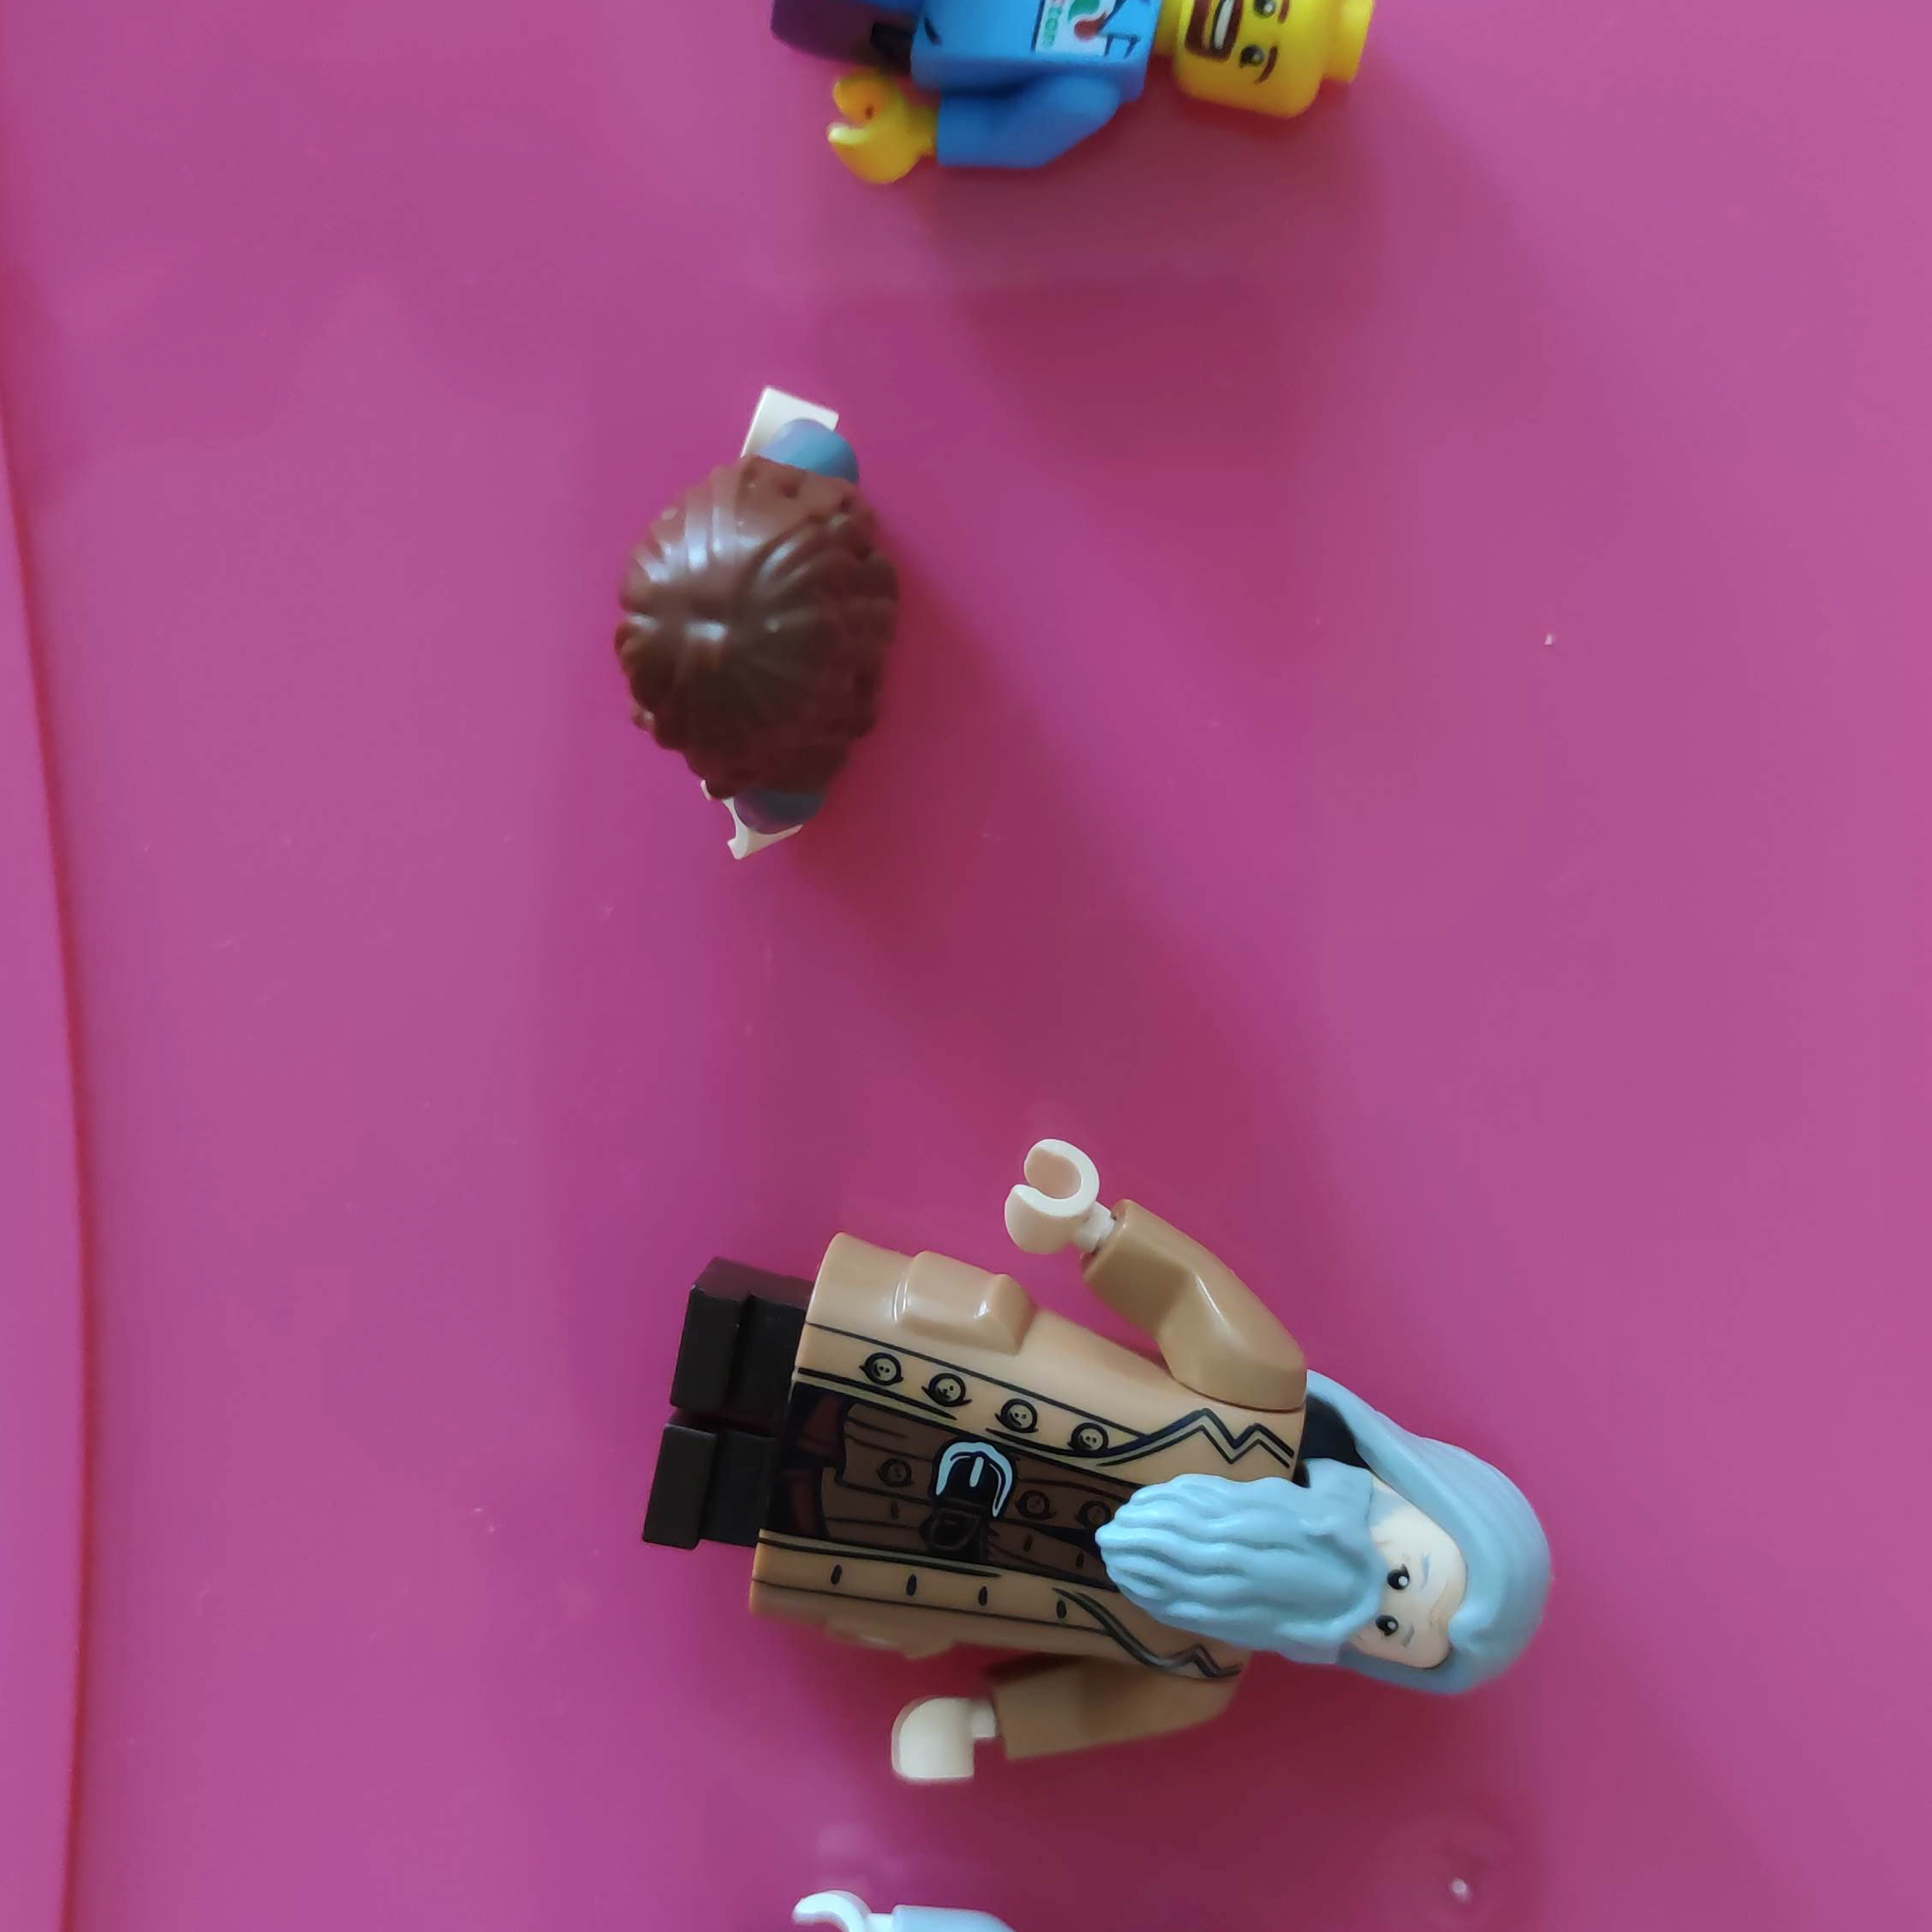lego: (644, 1131, 1553, 1778), (616, 391, 901, 865), (775, 0, 1378, 186)
